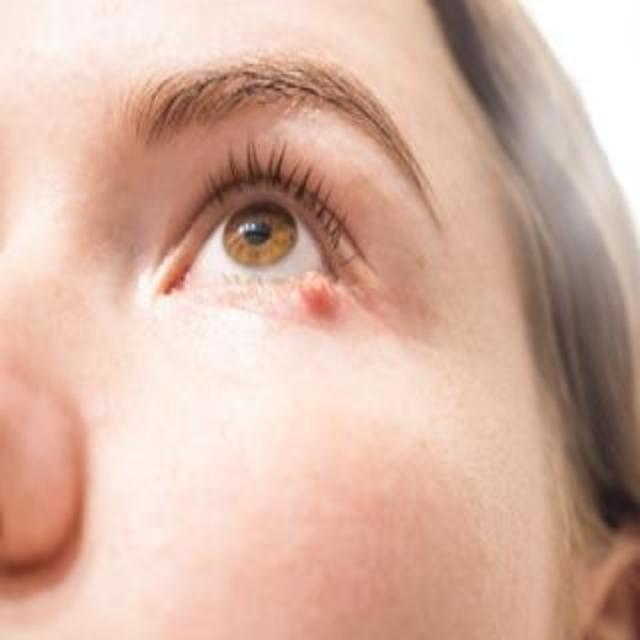Stye: (262, 262, 368, 344)
